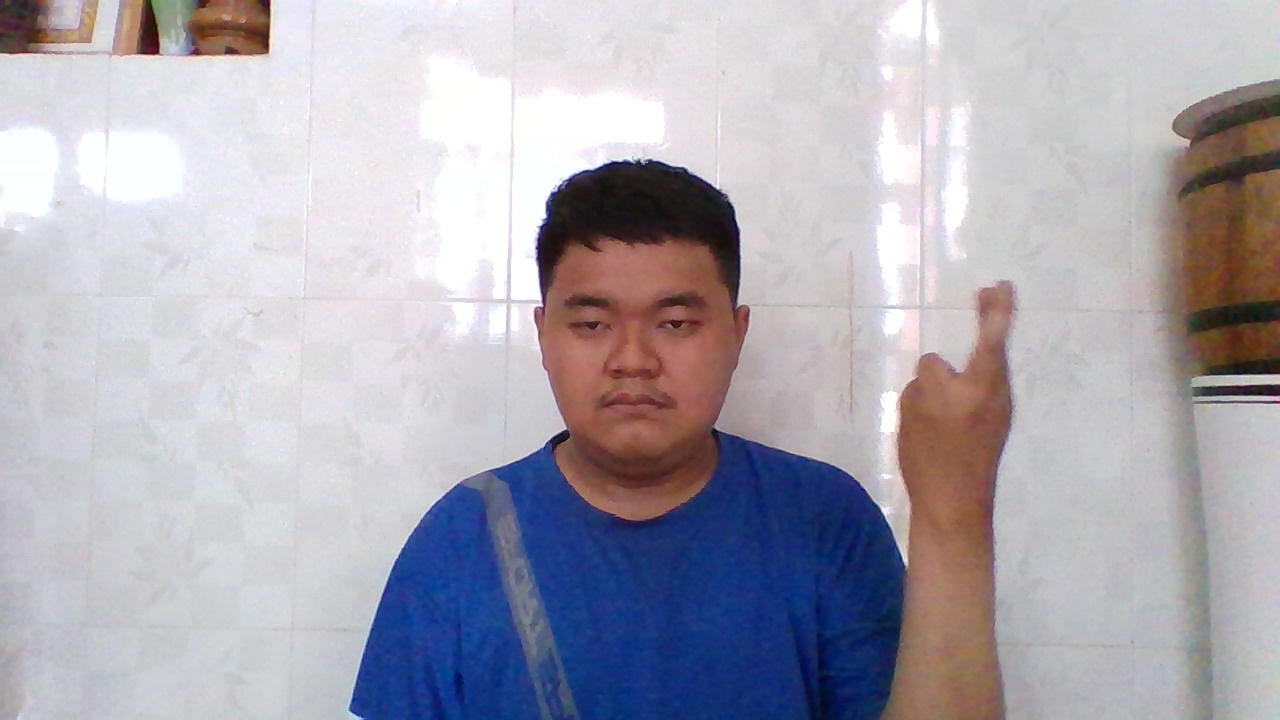R: (895, 274, 1018, 520)
